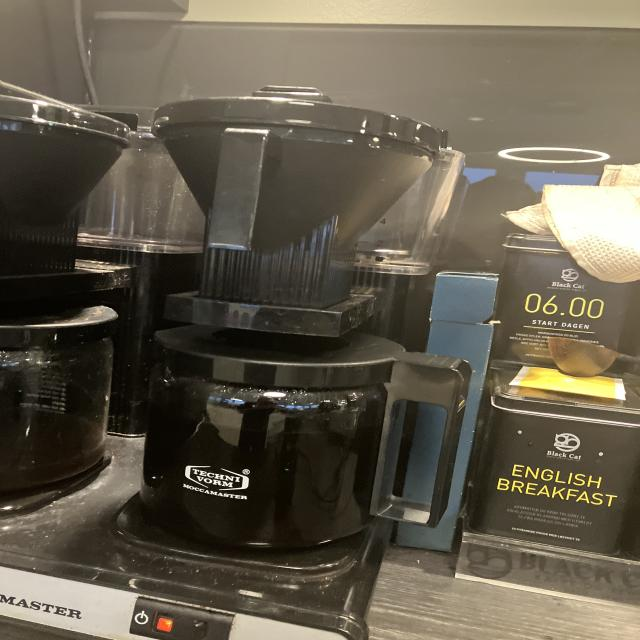coffee: (129, 334, 421, 539), (0, 294, 131, 535)
